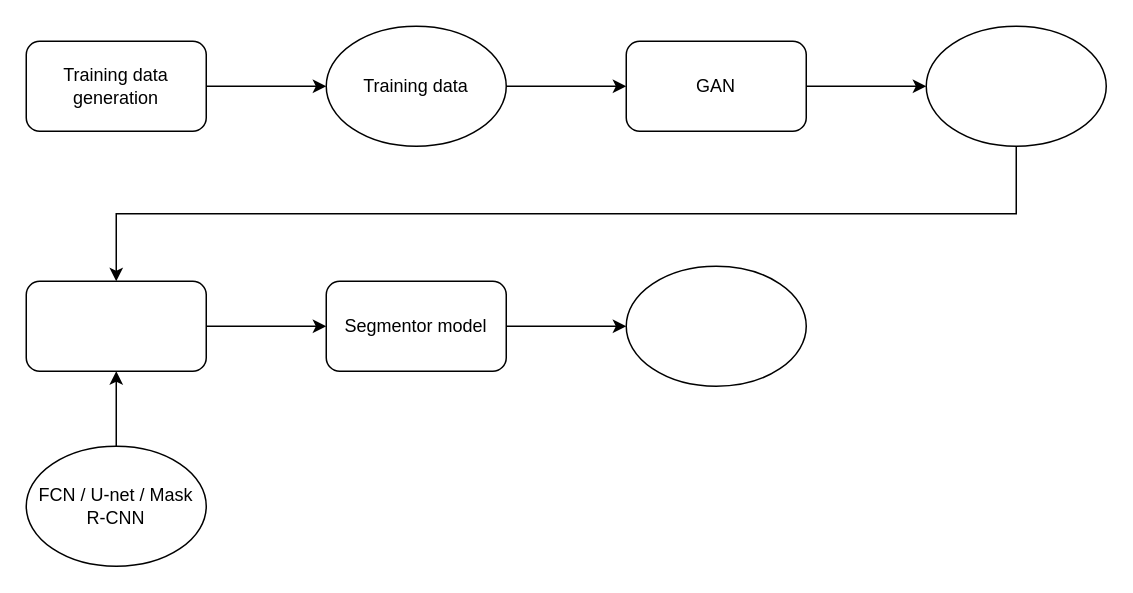
The diagram is 1133 pixels wide and 593 high, and some of its shapes have lost their labels. Here are the shapes that lost their labels. From the top down, the centre of each, then its label:
[1015,85]: Enhanced training data
[115,325]: Transfer learning
[715,325]: Segmented image
